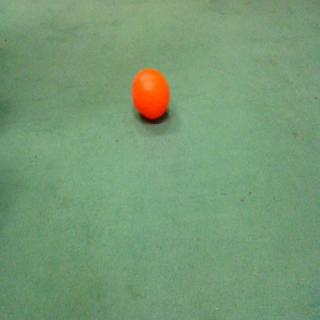orange: (127, 66, 173, 130)
